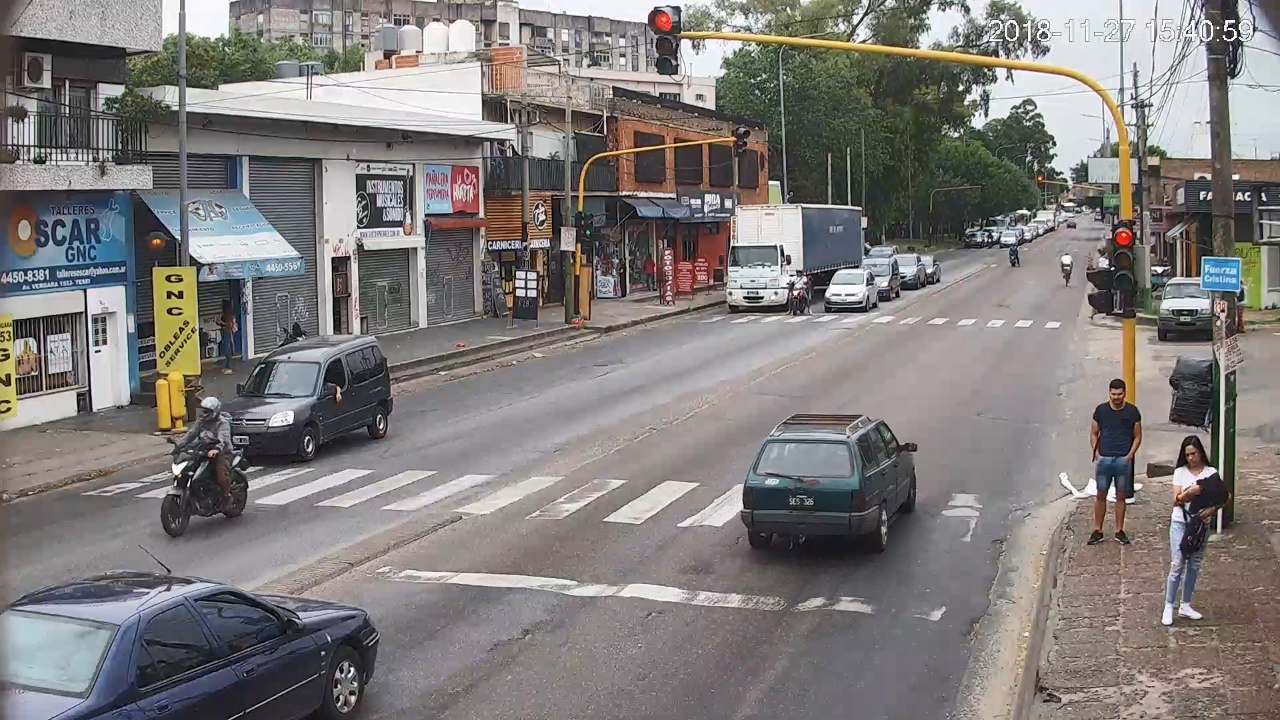car: (2, 571, 379, 720), (741, 415, 917, 550)
front motorcycle: (160, 420, 248, 535)
person: (1161, 436, 1219, 623)
traffic light: (654, 8, 679, 75), (1113, 227, 1134, 290)
